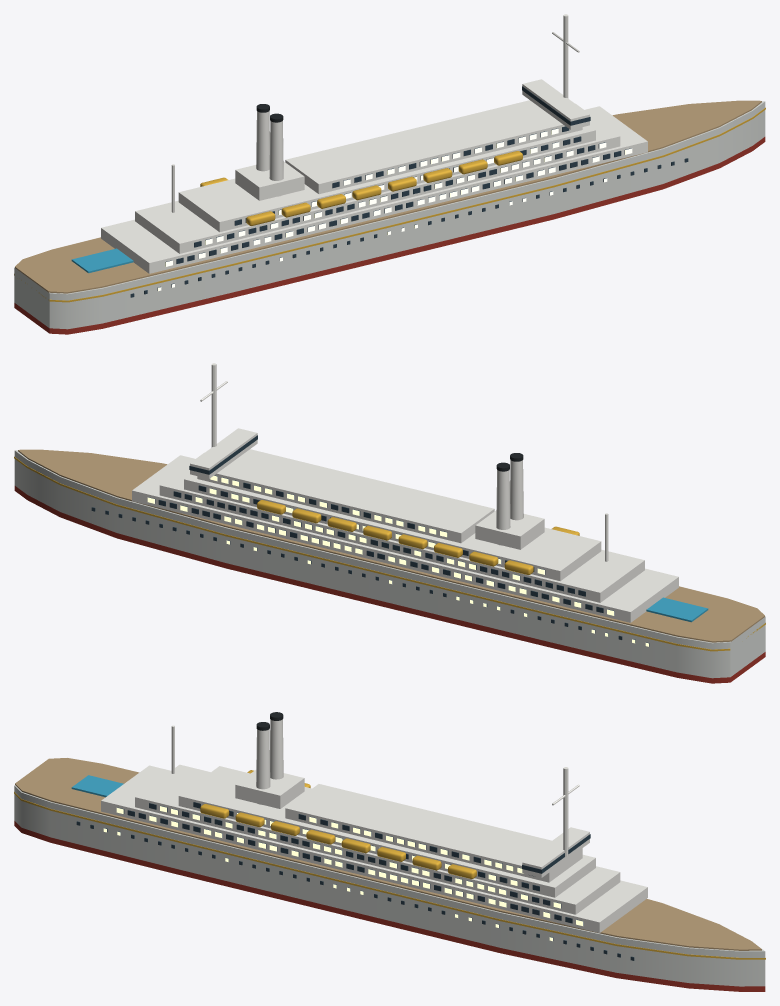
File: ssrotterdam.glb
3 views of the same model, one above another, from view 1: azimuth 30°, elevation 25°; view 2: azimuth 150°, elevation 25°; view 3: azimuth 330°, elevation 25° (orthographic).
Visible parts, largest first — view 1: romp, opbouw3, dek, opbouw0, opbouw1, opbouw2, waterlijn, geellijn, uitlaatvoet, brug, ramen0-1, ramen1-1 (+7 smaller); view 2: romp, opbouw3, dek, opbouw0, opbouw1, opbouw2, waterlijn, geellijn, uitlaatvoet, brug, ramen11, ramen01 (+7 smaller); view 3: romp, opbouw3, dek, opbouw0, opbouw1, opbouw2, waterlijn, geellijn, uitlaatvoet, brug, ramen0-1, ramen1-1 (+9 smaller).
Part boxes in pixels (x1=…): romp: x1=14, y1=101, x2=765, y2=329; opbouw3: x1=285, y1=100, x2=582, y2=194; dek: x1=15, y1=100, x2=761, y2=293; opbouw0: x1=101, y1=106, x2=647, y2=273; opbouw1: x1=135, y1=103, x2=620, y2=253; opbouw2: x1=178, y1=125, x2=595, y2=232; waterlijn: x1=14, y1=137, x2=765, y2=334; geellijn: x1=14, y1=107, x2=765, y2=302; uitlaatvoet: x1=235, y1=161, x2=304, y2=200; brug: x1=522, y1=79, x2=589, y2=129; ramen0-1: x1=165, y1=148, x2=631, y2=266; ramen1-1: x1=194, y1=142, x2=605, y2=247; romp: x1=14, y1=450, x2=765, y2=678; opbouw3: x1=197, y1=449, x2=494, y2=543; dek: x1=18, y1=449, x2=764, y2=642; opbouw0: x1=132, y1=455, x2=678, y2=622; opbouw1: x1=159, y1=452, x2=644, y2=602; opbouw2: x1=184, y1=474, x2=601, y2=581; waterlijn: x1=14, y1=486, x2=765, y2=683; geellijn: x1=14, y1=456, x2=765, y2=651; uitlaatvoet: x1=475, y1=510, x2=544, y2=549; brug: x1=190, y1=428, x2=257, y2=478; ramen11: x1=173, y1=491, x2=585, y2=596; ramen01: x1=148, y1=497, x2=614, y2=615; romp: x1=14, y1=785, x2=765, y2=986; opbouw3: x1=285, y1=784, x2=582, y2=882; dek: x1=15, y1=758, x2=761, y2=950; opbouw0: x1=101, y1=765, x2=647, y2=932; opbouw1: x1=135, y1=764, x2=620, y2=914; opbouw2: x1=178, y1=766, x2=595, y2=897; waterlijn: x1=14, y1=821, x2=765, y2=991; geellijn: x1=14, y1=792, x2=765, y2=959; uitlaatvoet: x1=235, y1=770, x2=304, y2=808; brug: x1=522, y1=827, x2=589, y2=877; ramen0-1: x1=117, y1=807, x2=583, y2=925; ramen1-1: x1=149, y1=803, x2=561, y2=907.
Size of the model in its own units: 228 by 52 by 29.32.
